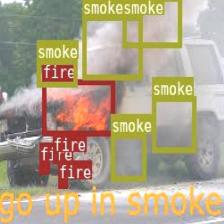fire: (41, 79, 114, 135), (39, 161, 49, 173), (58, 178, 66, 188), (52, 152, 57, 162)
smoke: (82, 15, 142, 78), (122, 0, 181, 47), (151, 96, 195, 151), (110, 132, 145, 181), (37, 58, 76, 86)
